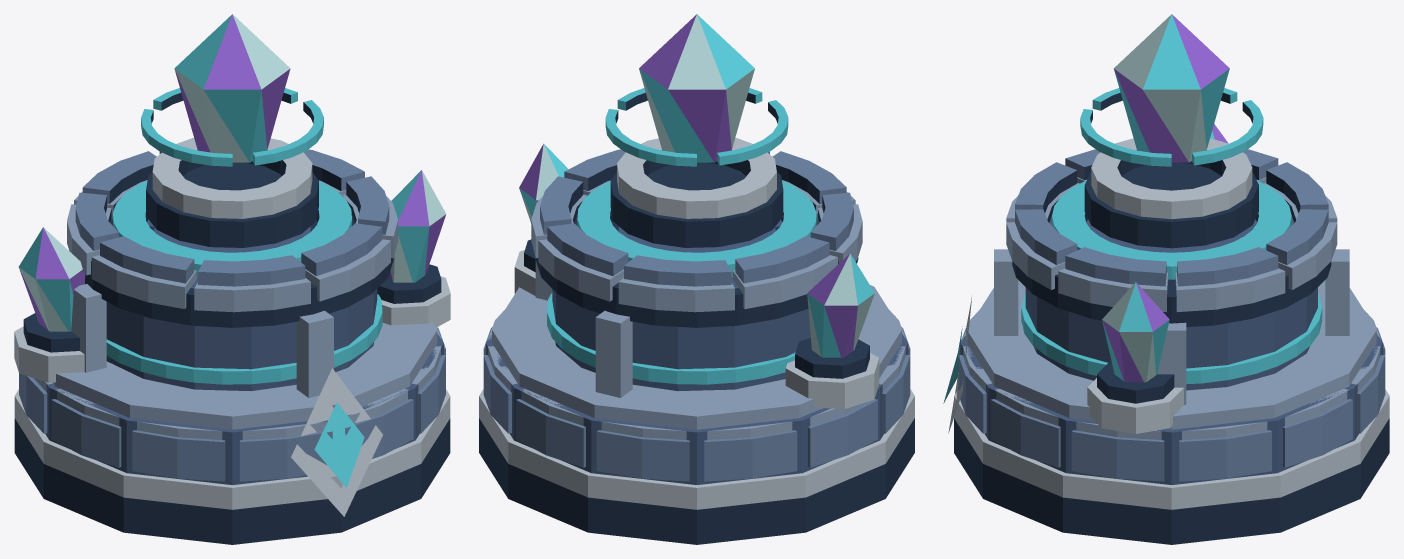
The model's file is modular-chassis-tier-1.glb.
3 renders of one model, left to right at view 1: azimuth 30°, elevation 25°; view 2: azimuth 150°, elevation 25°; view 3: azimuth 270°, elevation 25°, orthographic.
Visible parts, largest first — view 1: body, core-energy; view 2: body, core-energy; view 3: body, core-energy.
Part boxes in pixels (x1,y1,x2,y2): body: (14, 138, 450, 544); core-energy: (141, 14, 323, 166); body: (479, 138, 914, 544); core-energy: (605, 14, 788, 166); body: (943, 124, 1389, 544); core-energy: (1080, 14, 1263, 166).
Bounding box in the file's own units: 0.9321 × 1 × 0.922.
